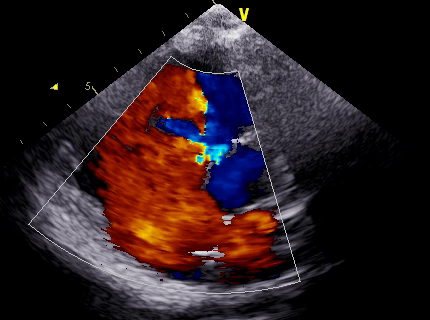TR: (149, 110, 214, 181)
